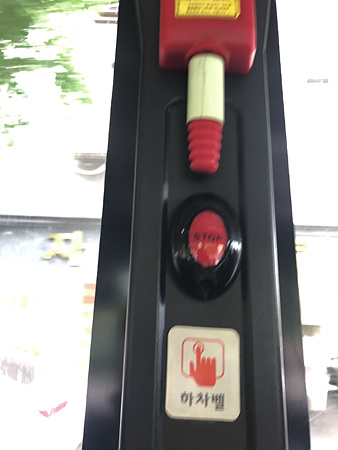bell: (169, 193, 242, 296)
